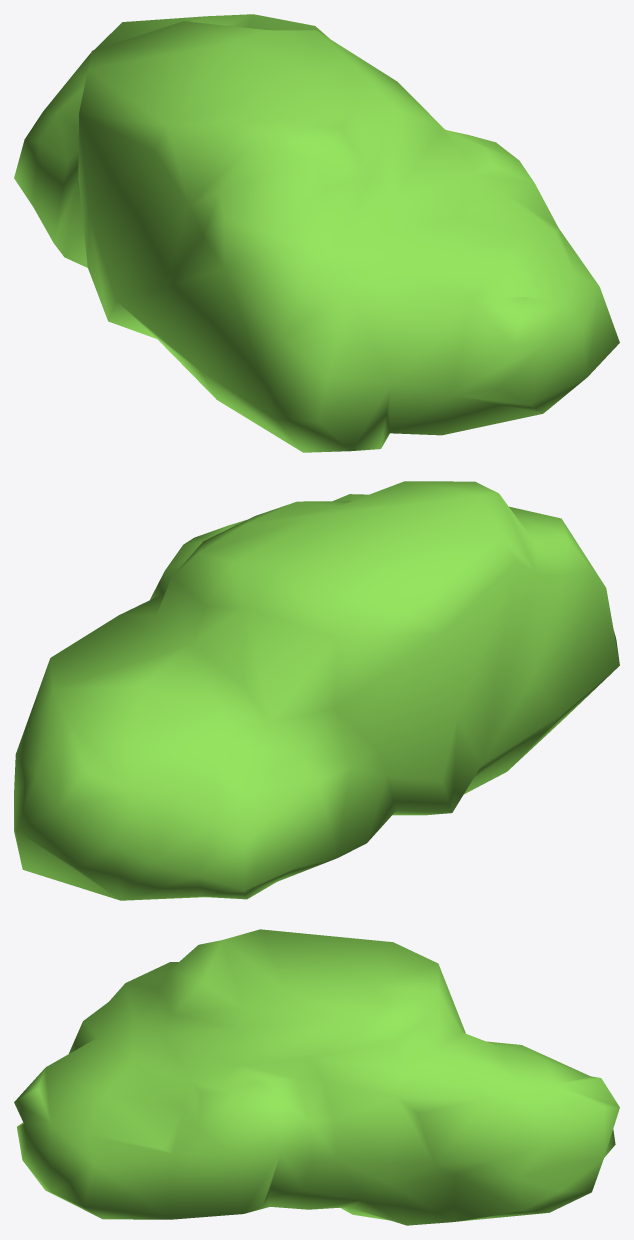
Rendered from rock_05.FBX.
3 renders of one model, top to bottom at view 1: azimuth 30°, elevation 25°; view 2: azimuth 150°, elevation 25°; view 3: azimuth 270°, elevation 25°, orthographic. The views are drawn at different scales.
Parts seen in each view (by area): view 1: rock_05; view 2: rock_05; view 3: rock_05.
Part boxes in pixels (x1,y1,x2,y2): rock_05: [14, 14, 619, 452]; rock_05: [14, 481, 619, 900]; rock_05: [14, 929, 619, 1225].
Bounding box in the file's own units: 330 × 241 × 631.
